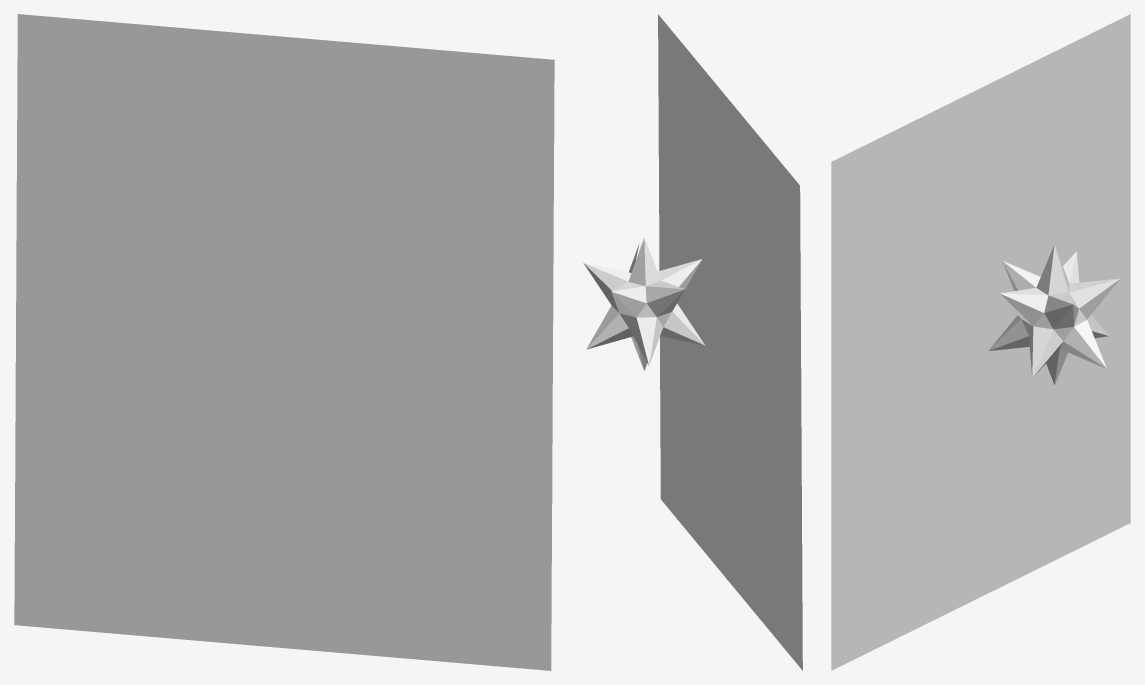
Rendered from PlinthMoment_Animations_NaturesLight.fbx.
3 renders of one model, left to right at view 1: azimuth 30°, elevation 25°; view 2: azimuth 150°, elevation 25°; view 3: azimuth 270°, elevation 25°, orthographic. The views are drawn at different scales.
Visible parts, largest first — view 1: glow; view 2: glow, Icosphere.001, Icosphere.002; view 3: glow, Icosphere.001.
Part boxes in pixels (left/top/right/bottom): glow: left=14, top=14, right=554, bottom=670; glow: left=658, top=14, right=802, bottom=670; Icosphere.001: left=583, top=237, right=705, bottom=370; Icosphere.002: left=645, top=280, right=684, bottom=316; glow: left=831, top=14, right=1130, bottom=670; Icosphere.001: left=988, top=244, right=1120, bottom=384.
Bounding box in the file's own units: 1.1 × 1.78 × 0.9409.
